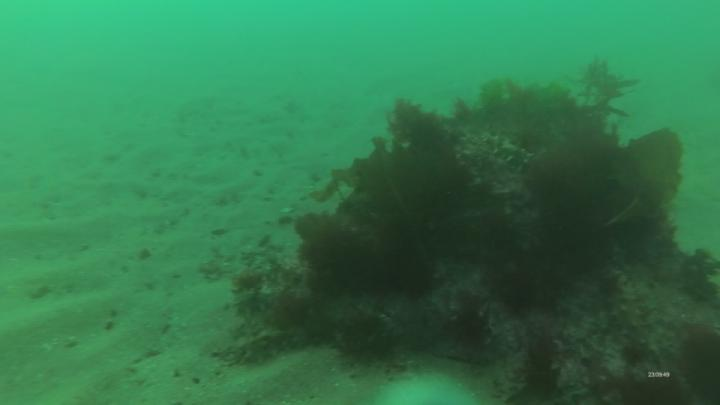waterweeds: (227, 60, 720, 405)
